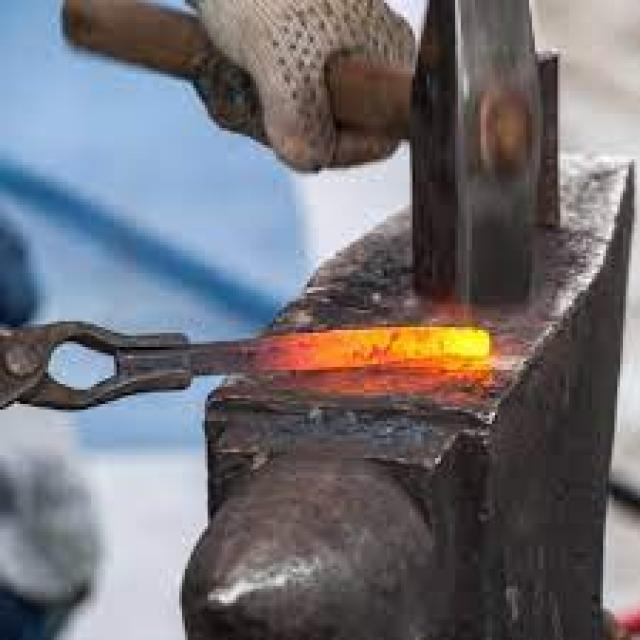hammer: (56, 0, 554, 319)
